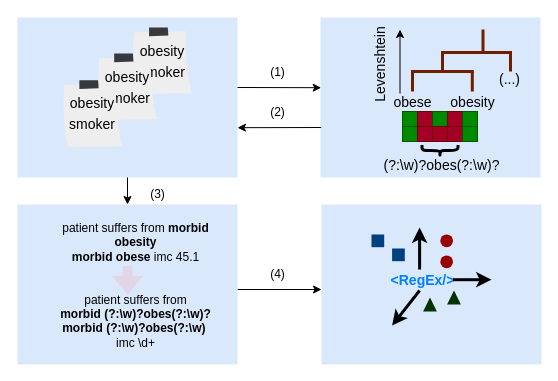
The diagram is 558 pixels wide and 381 high, and some of its shapes have lost their labels. Each missing label, with the box of its shape:
Input: labeled texts: (17, 17, 237, 177)
Output: regular expresions: (321, 204, 541, 364)
